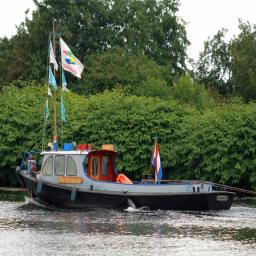tugboat: (15, 134, 238, 216)
